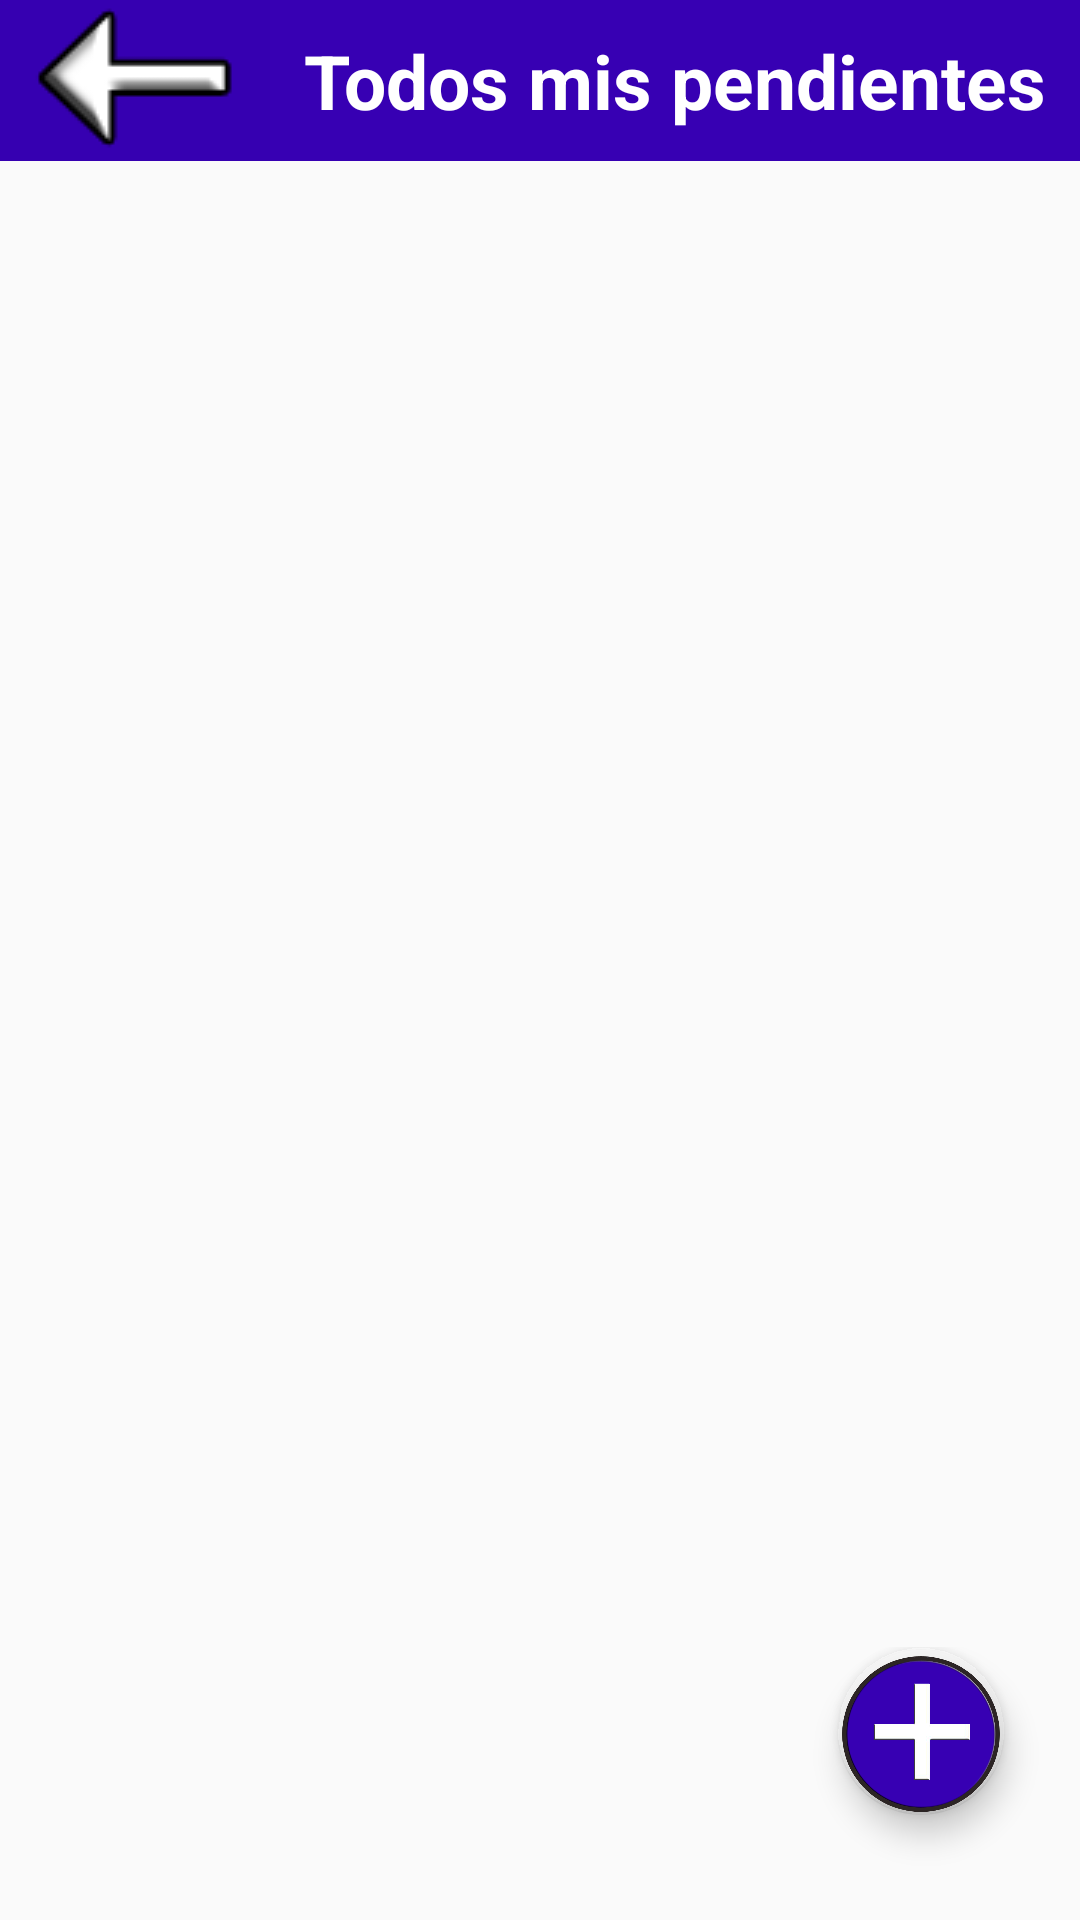

Screen size 1080px x 1920px. Icon name, then its box in pixels as (x1, y1, x2, y2):
backeste: (38, 9, 232, 147)
iconoagregar: (838, 1656, 1005, 1815)
